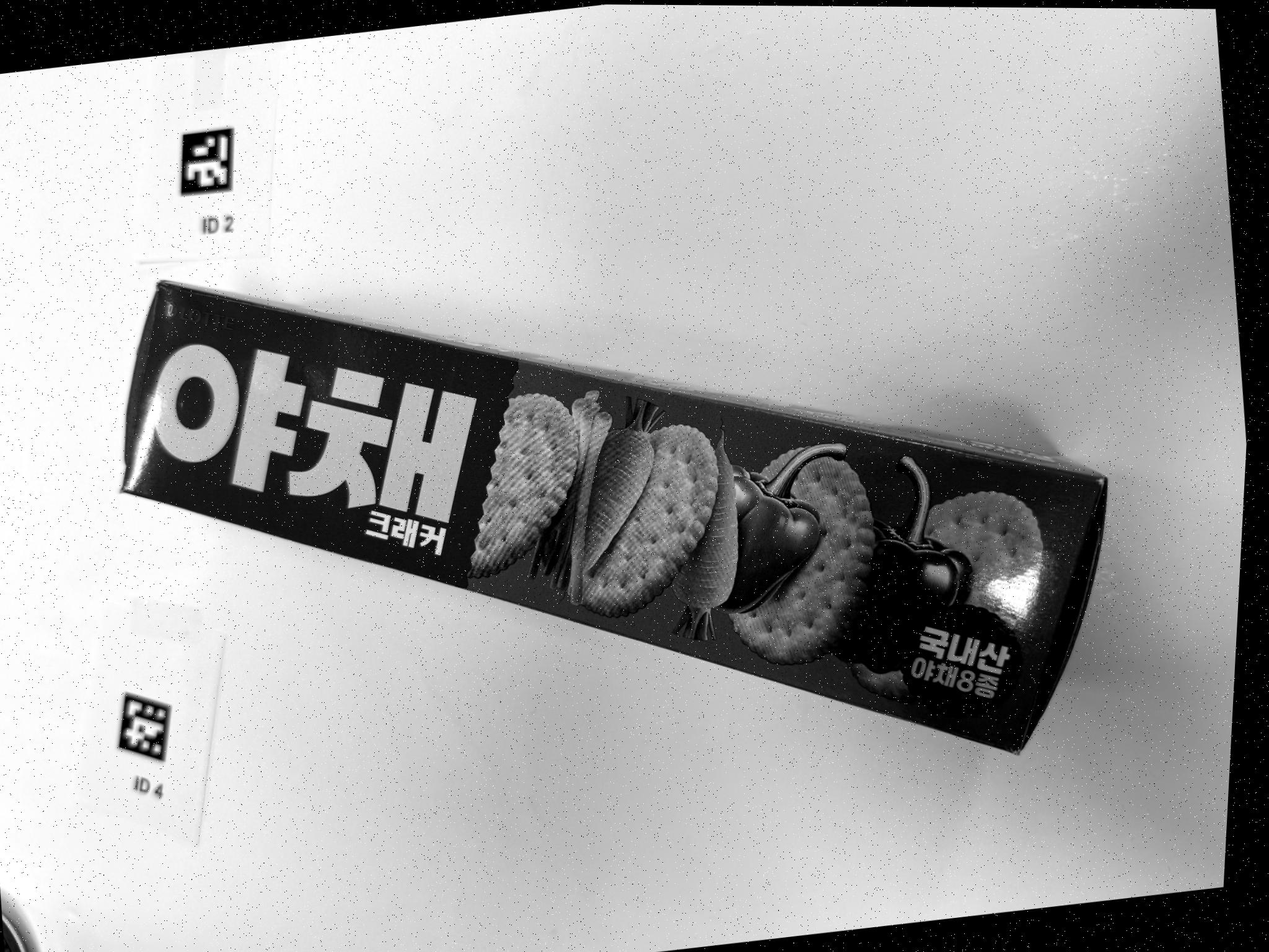cracker_vege: (122, 282, 1106, 751)
